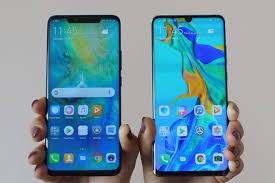huawei: (43, 10, 122, 175), (149, 10, 228, 175)
